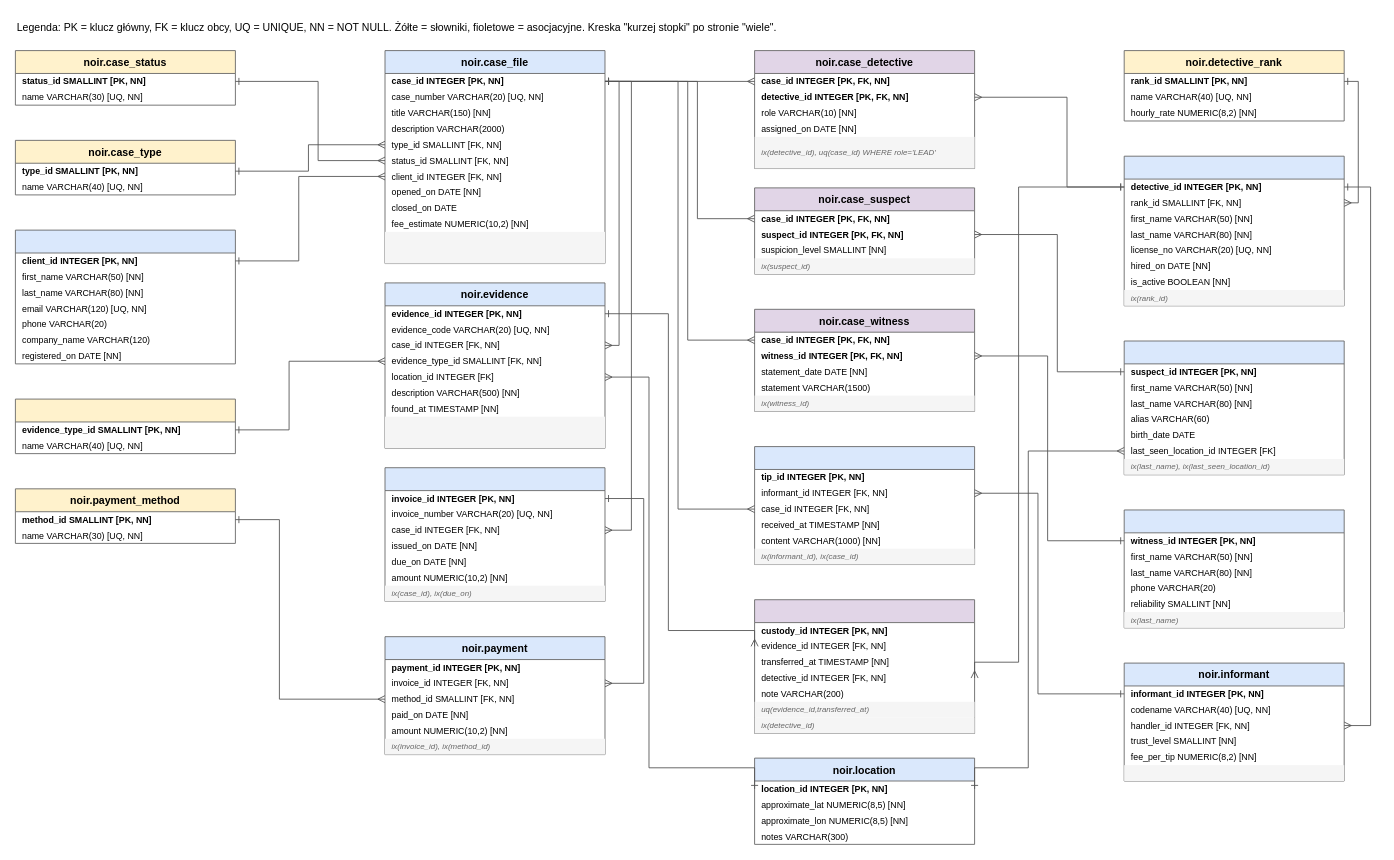
This 1394x860 diagram has some shape labels left out. Each missing label, with the box of its shape:
ix(case_id,evidence_type_id), ix(location_id), ix(evidence_type_id): (385, 416, 605, 448)
ix(client_id,status_id,opened_on), ix(type_id), ix(status_id): (385, 231, 605, 263)
ix(handler_id): (1124, 765, 1344, 781)
noir.client: (15, 229, 235, 364)
noir.detective: (1123, 155, 1344, 306)
noir.evidence_custody: (754, 599, 975, 733)
noir.evidence_type: (15, 398, 235, 454)
noir.invoice: (384, 467, 605, 601)
noir.suspect: (1123, 340, 1344, 475)
noir.tip: (754, 446, 975, 565)
noir.witness: (1123, 509, 1344, 628)
